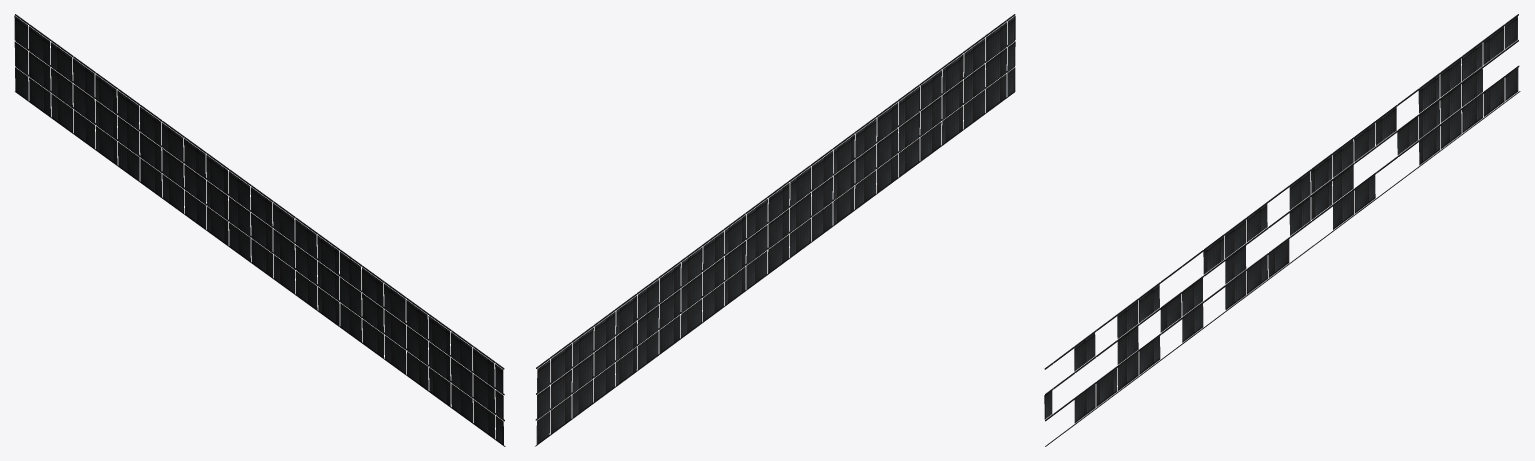
File: solar_panels.obj
3 renders of one model, left to right at view 1: azimuth 30°, elevation 25°; view 2: azimuth 150°, elevation 25°; view 3: azimuth 330°, elevation 25°, orthographic.
Visible parts, largest first — view 1: solar_panels_12_____011.002; view 2: solar_panels_12_____011.002; view 3: solar_panels_12_____011.002.
Part boxes in pixels (box(x1,y1,x2,y2)): solar_panels_12_____011.002: box(14, 14, 505, 446); solar_panels_12_____011.002: box(535, 14, 1015, 446); solar_panels_12_____011.002: box(1044, 14, 1520, 446).
Bounding box in the file's own units: 0.3356 × 3.36 × 36.55.
Materials: 2 (2 with a texture image).
